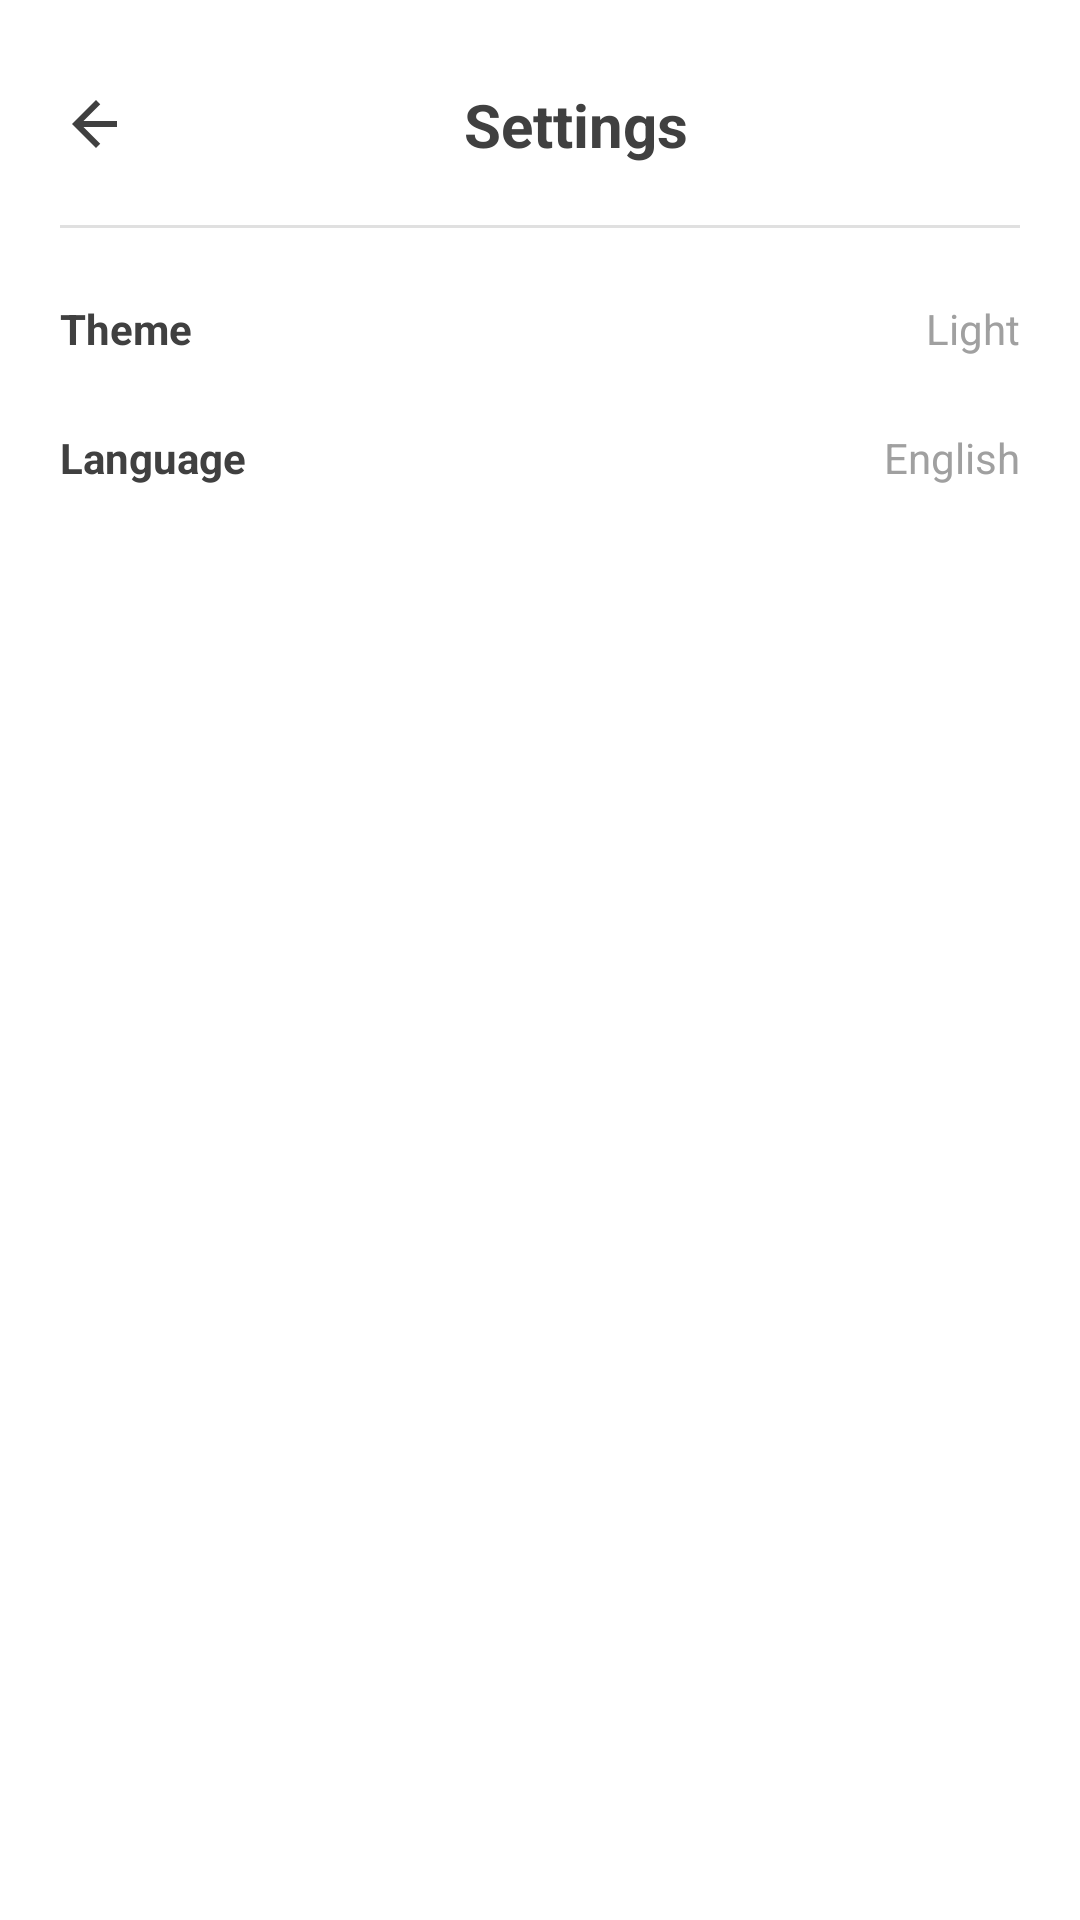

Icon click points for this 1080x1920 phone screenshot, format (x=x, y=y):
Back: (x=94, y=124)
